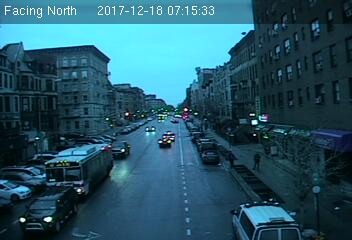bus: (43, 142, 115, 199)
car: (17, 185, 80, 233), (110, 141, 132, 157), (202, 150, 219, 162), (158, 137, 172, 148)
pedestrian: (252, 152, 262, 173), (227, 150, 236, 168)
police: (228, 194, 311, 240)
